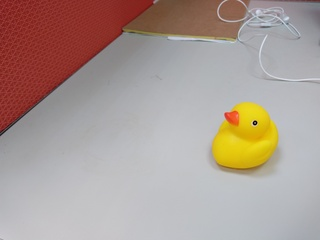duck: (204, 101, 283, 177)
